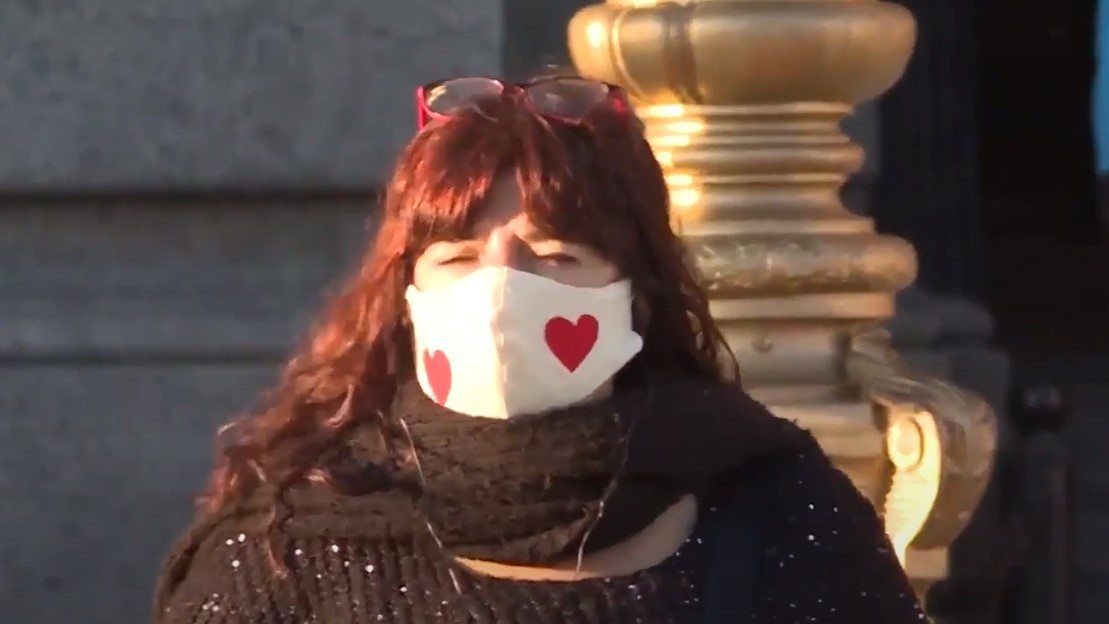face_with_mask: (403, 72, 647, 412)
